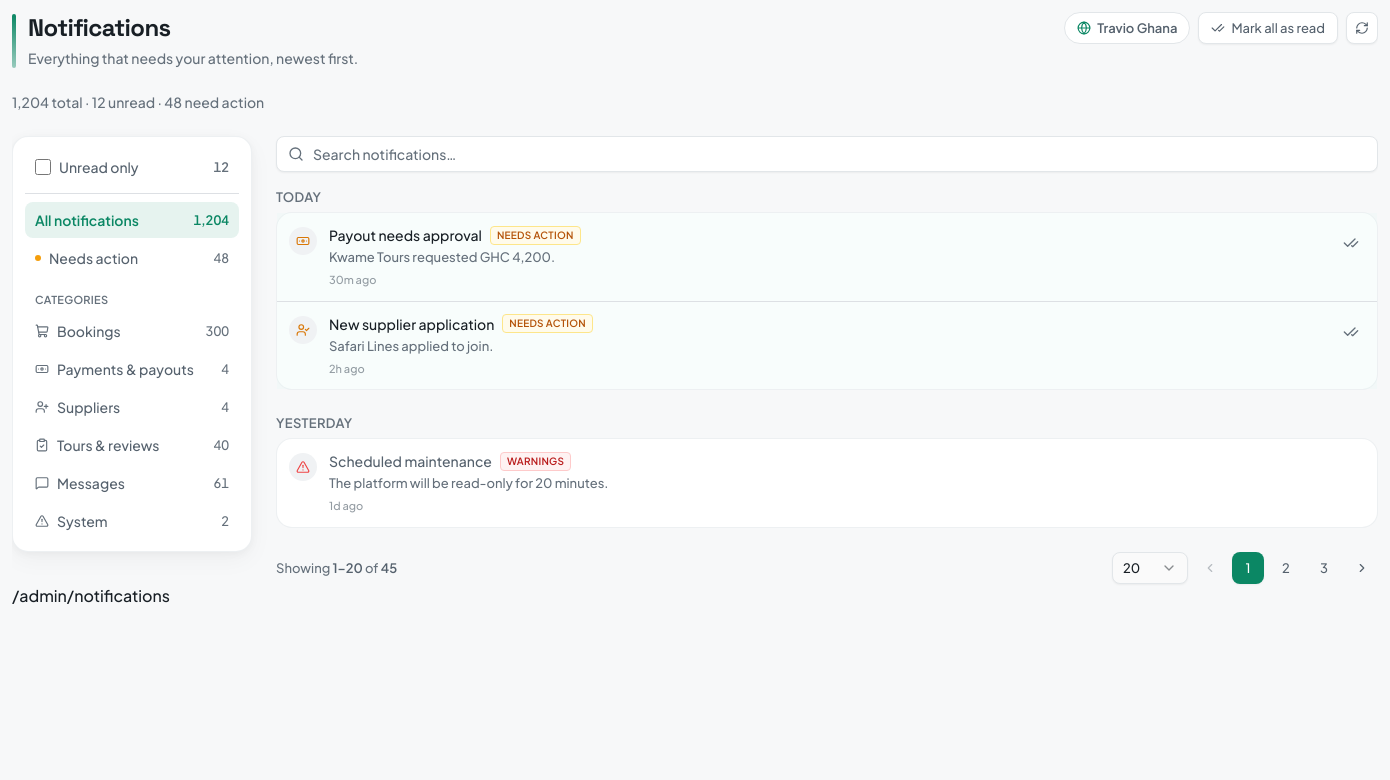
Scenario: NotificationsPage › reflects filter state in the URL so a view is shareable
Expected: the text "Payout needs approval" is shown, [329,225,482,245]
Click the button "Payments & payouts 4" at (132, 368), box [25,350,239,386]
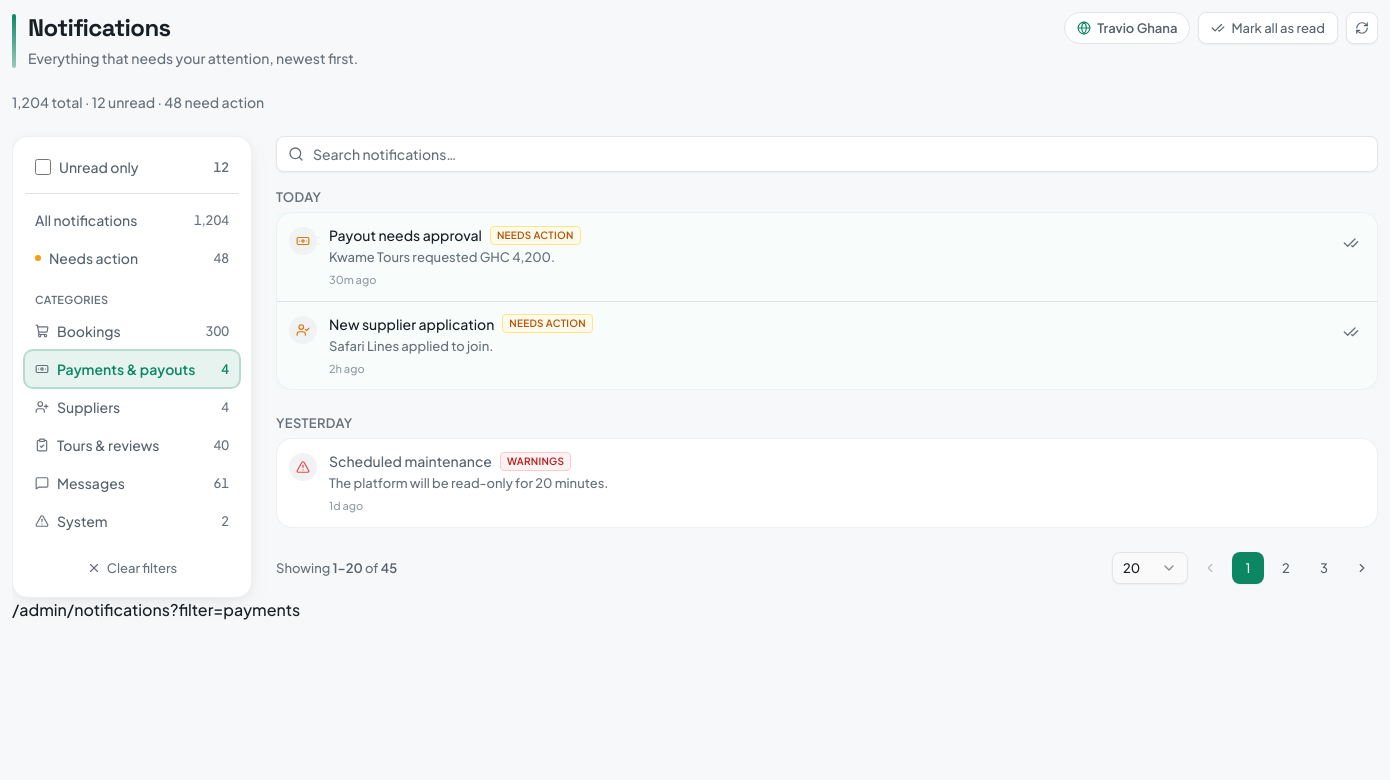
Expected: the text with test id "location" shows "filter=payments", [12,598,300,620]
